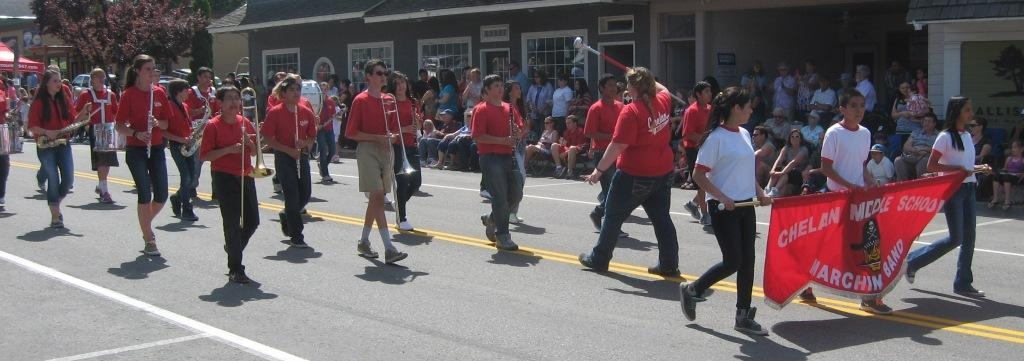human_face: (845, 96, 865, 122), (738, 98, 752, 124), (222, 92, 238, 114), (372, 65, 386, 85), (48, 74, 62, 92), (140, 62, 154, 80), (286, 84, 300, 102), (960, 103, 972, 123), (490, 81, 504, 97), (394, 78, 406, 94), (604, 80, 616, 96), (922, 116, 934, 131), (274, 76, 288, 88), (201, 70, 211, 86), (968, 118, 978, 134), (92, 74, 102, 88), (511, 84, 521, 98), (700, 87, 710, 101), (898, 82, 910, 92), (752, 128, 760, 142), (1011, 141, 1019, 155), (870, 150, 880, 160), (179, 86, 187, 98), (319, 84, 327, 96), (791, 132, 799, 144), (617, 89, 625, 101), (778, 64, 786, 74), (854, 68, 862, 78), (152, 72, 160, 82), (809, 114, 815, 126), (890, 63, 898, 72), (566, 118, 572, 129), (508, 65, 516, 73), (818, 80, 826, 88), (840, 77, 848, 85), (558, 76, 564, 86), (774, 112, 780, 122), (340, 81, 346, 89), (442, 112, 448, 120), (472, 73, 478, 81), (534, 74, 540, 82), (544, 118, 550, 126), (467, 112, 473, 120), (803, 64, 809, 72), (907, 88, 913, 96), (425, 124, 431, 131), (918, 69, 922, 79), (227, 74, 233, 80), (420, 73, 426, 79), (754, 63, 758, 72), (462, 69, 466, 76), (574, 80, 578, 86)
